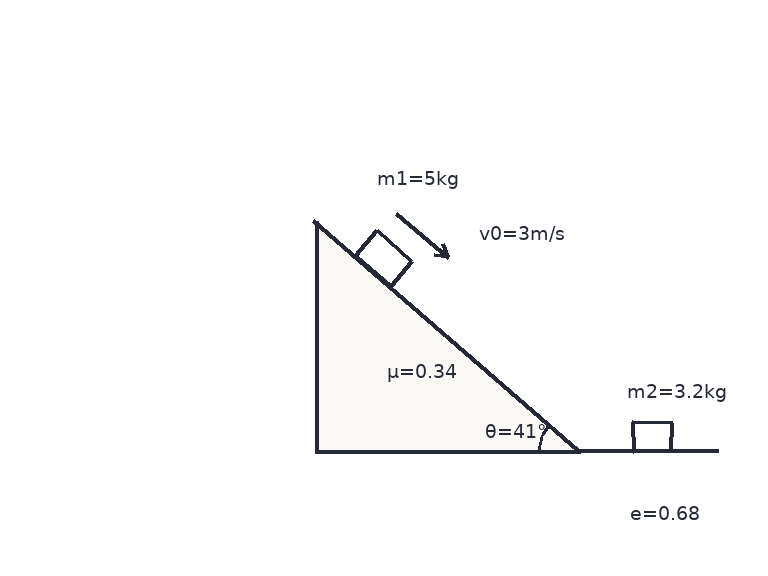block: (353, 228, 414, 288), (630, 420, 674, 453)
ramp: (313, 219, 581, 453)
